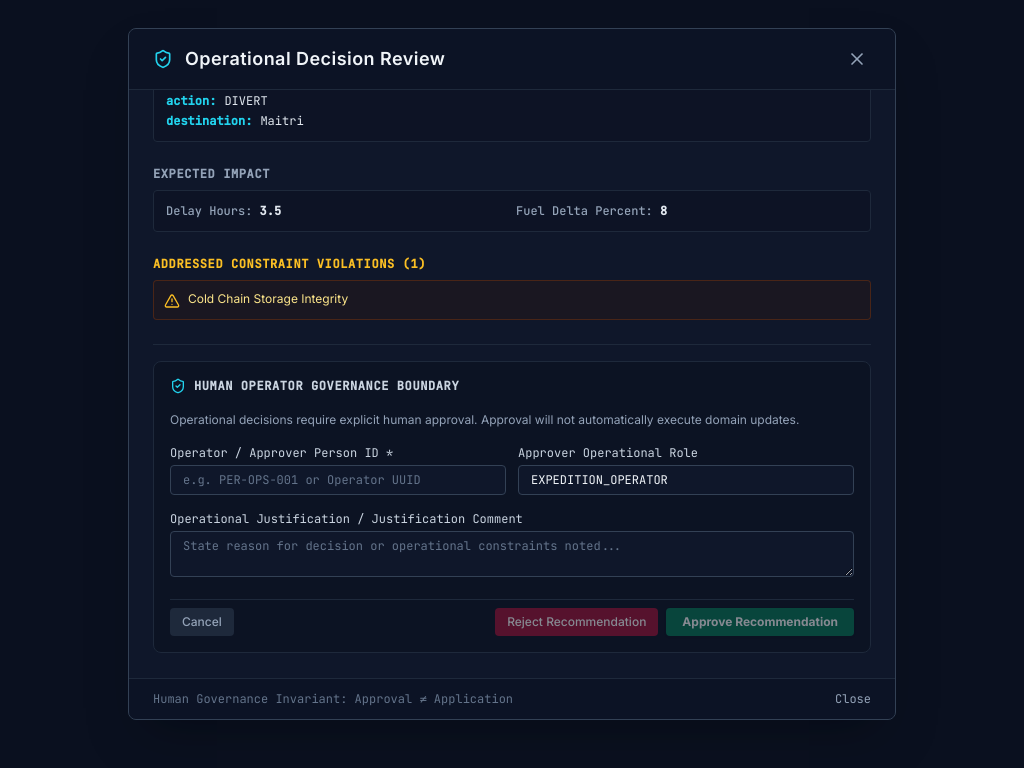
it: ApprovalModal › submits approval and transitions to APPROVED — READY TO APPLY without automatically applying
(page scrolled)
Type "PER-OPS-CHIEF" into the field with test id "approver-person-id-input" at (338, 480), box [170, 465, 506, 495]
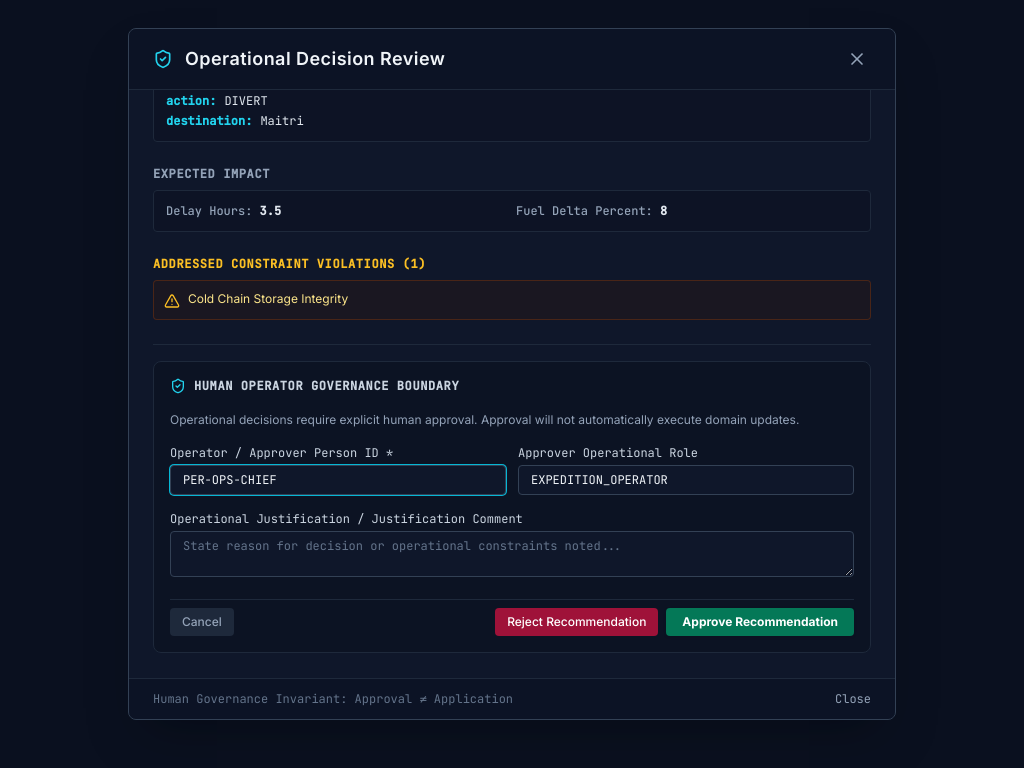
Replace the text in the field with test id "approver-role-input" with "EXPEDITION_LEADER" at (686, 480), box [518, 465, 854, 495]
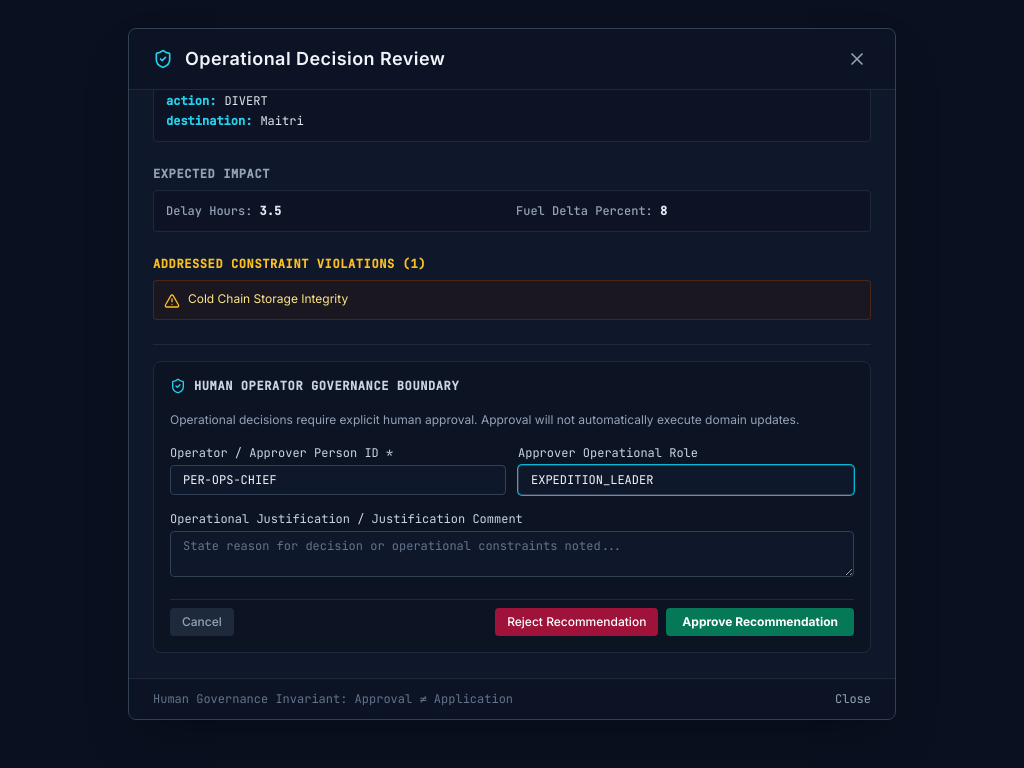
Type "Approved for mission safety." into the text box with test id "approval-comment-input" at (512, 554), box [170, 531, 854, 577]
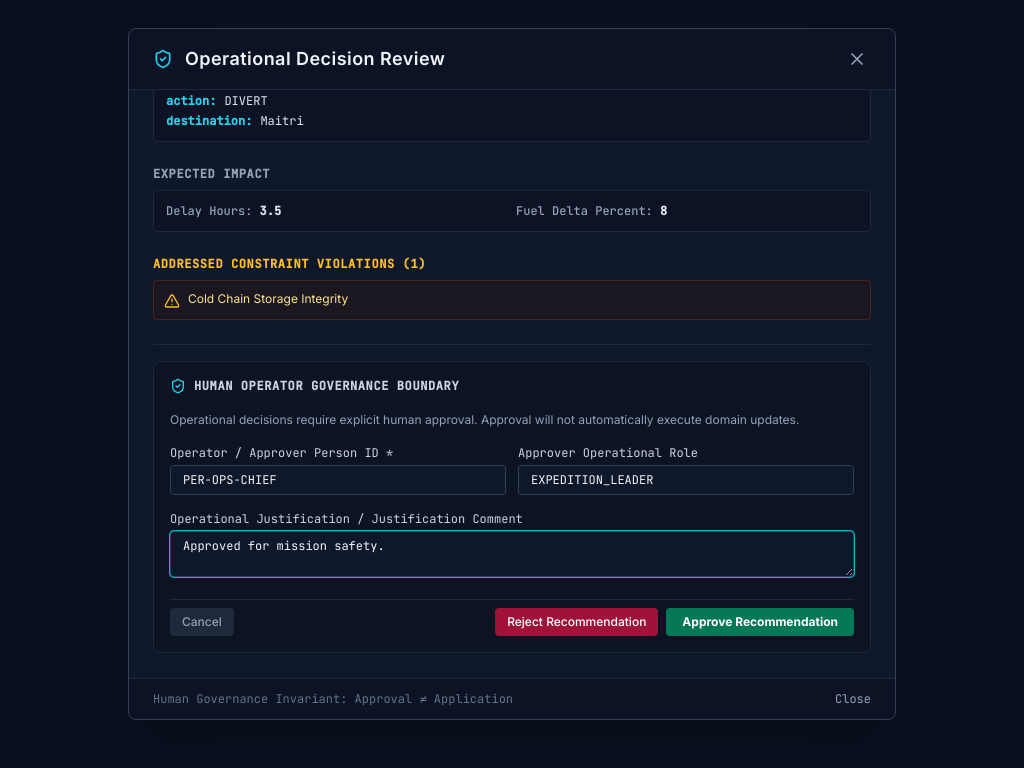
Click the button "Approve Recommendation" at (760, 622), box [666, 608, 854, 636]
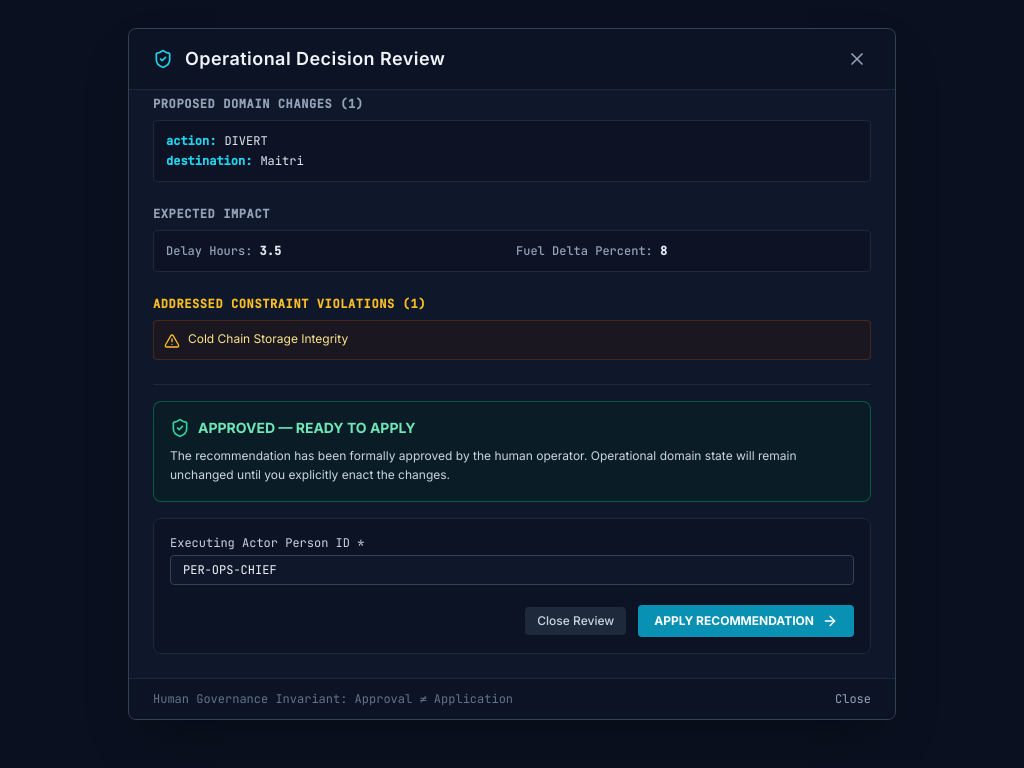
Result: the text "APPROVED — READY TO APPLY" is shown at [198, 418, 416, 438]
Result: the button "APPLY RECOMMENDATION" is shown at [638, 605, 854, 637]
